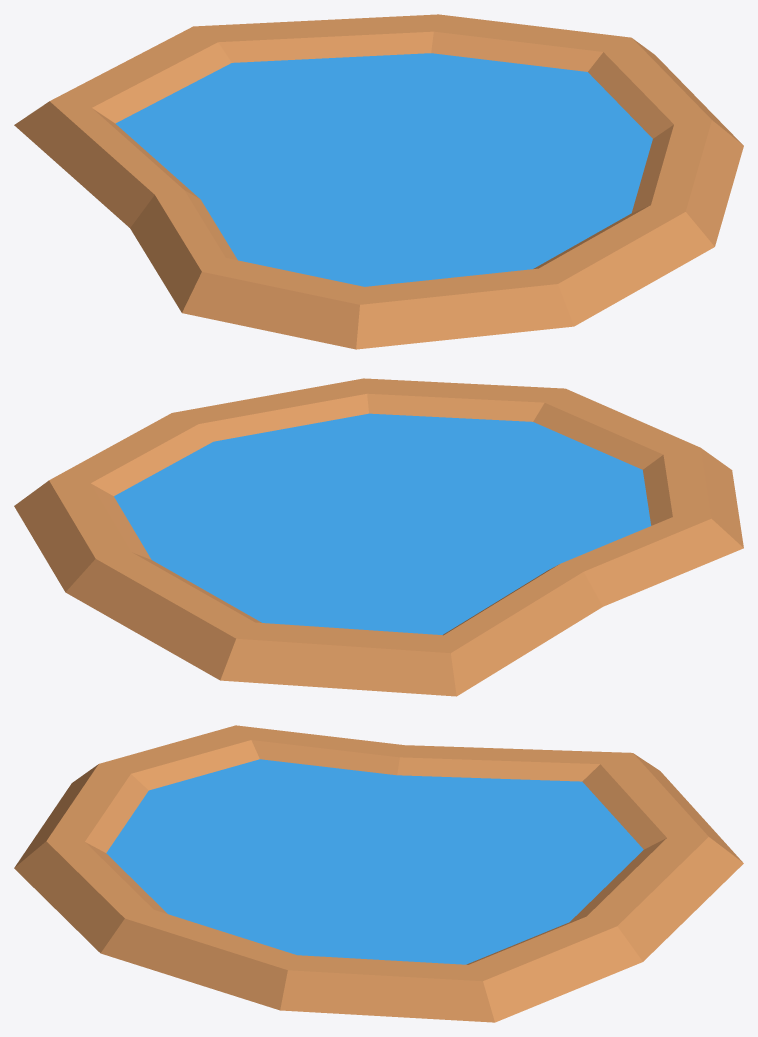
Rendered from Pool01.obj.
The picture shows the model from 3 angles, top to bottom: view 1: azimuth 30°, elevation 25°; view 2: azimuth 150°, elevation 25°; view 3: azimuth 270°, elevation 25°; orthographic projection. The views are drawn at different scales.
Parts seen in each view (by area): view 1: Water01, Pool01; view 2: Water01, Pool01; view 3: Water01, Pool01.
Part boxes in pixels (bbox=[...]): Water01: bbox=[115, 53, 652, 286]; Pool01: bbox=[14, 14, 743, 349]; Water01: bbox=[114, 413, 651, 634]; Pool01: bbox=[14, 378, 743, 696]; Water01: bbox=[106, 759, 643, 964]; Pool01: bbox=[14, 725, 743, 1022].
Bounding box in the file's own units: 2.41 × 0.1099 × 2.63.
Materials: 1 (1 with a texture image).
